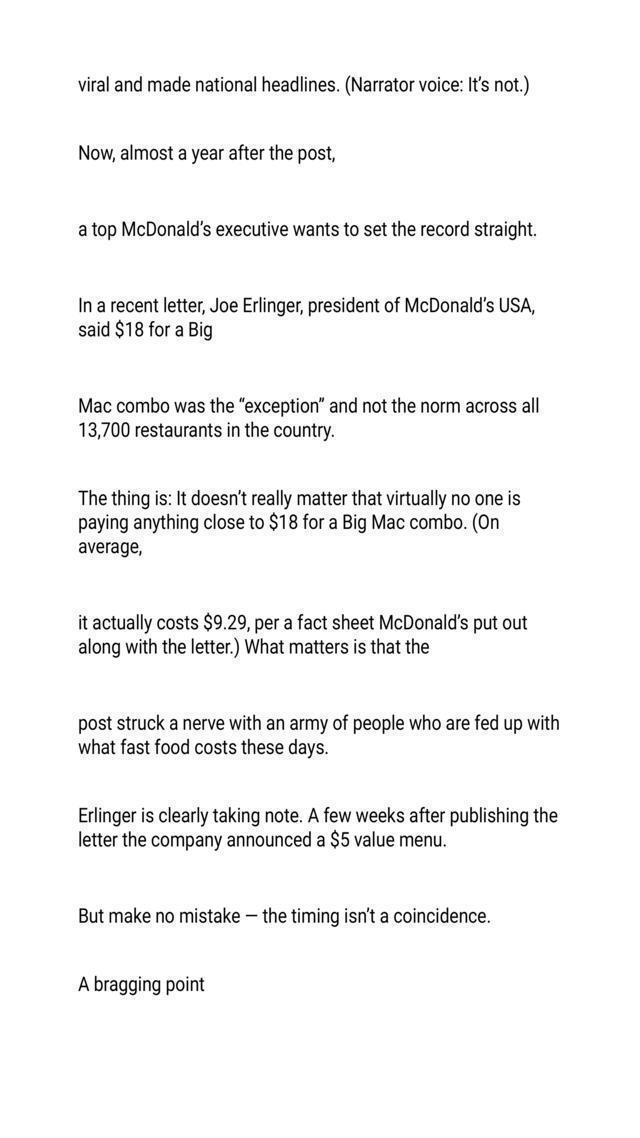Text: (75, 70, 538, 104), (70, 291, 544, 320), (70, 801, 568, 828), (71, 217, 548, 245), (72, 610, 538, 638), (72, 484, 524, 512), (70, 393, 546, 419), (73, 710, 568, 734), (73, 905, 496, 932), (73, 511, 510, 535), (70, 136, 344, 172), (70, 829, 455, 854), (72, 638, 436, 661), (73, 736, 332, 761), (72, 420, 340, 444), (72, 318, 226, 344), (70, 973, 212, 998), (74, 538, 150, 560)
